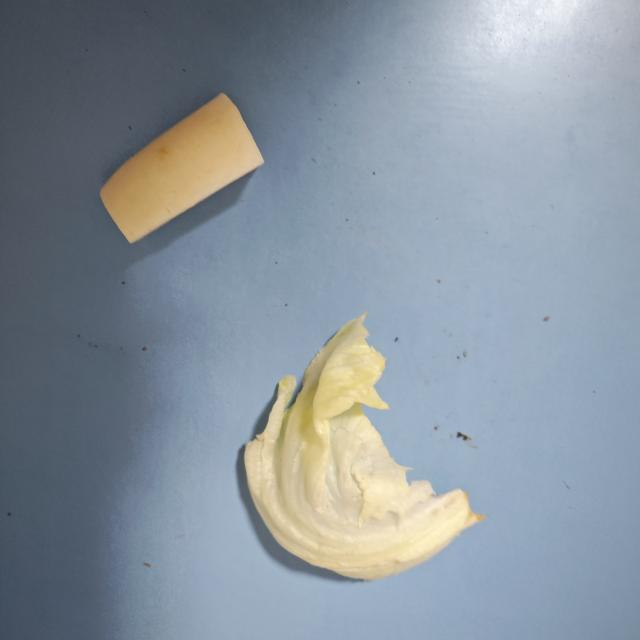-Kitchen waste - vegetable roots and leaves-: (236, 323, 488, 582)
-Kitchen waste - white radish-: (98, 89, 264, 247)
